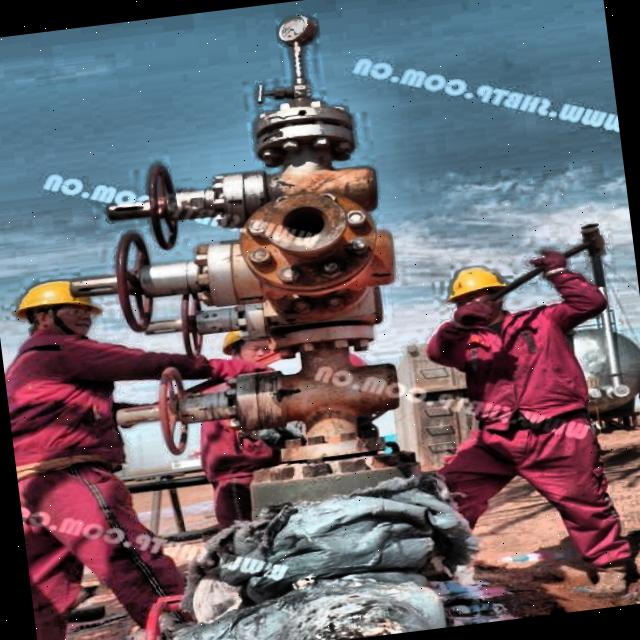helmet: (5, 270, 101, 346), (440, 258, 515, 328), (218, 319, 280, 372)
